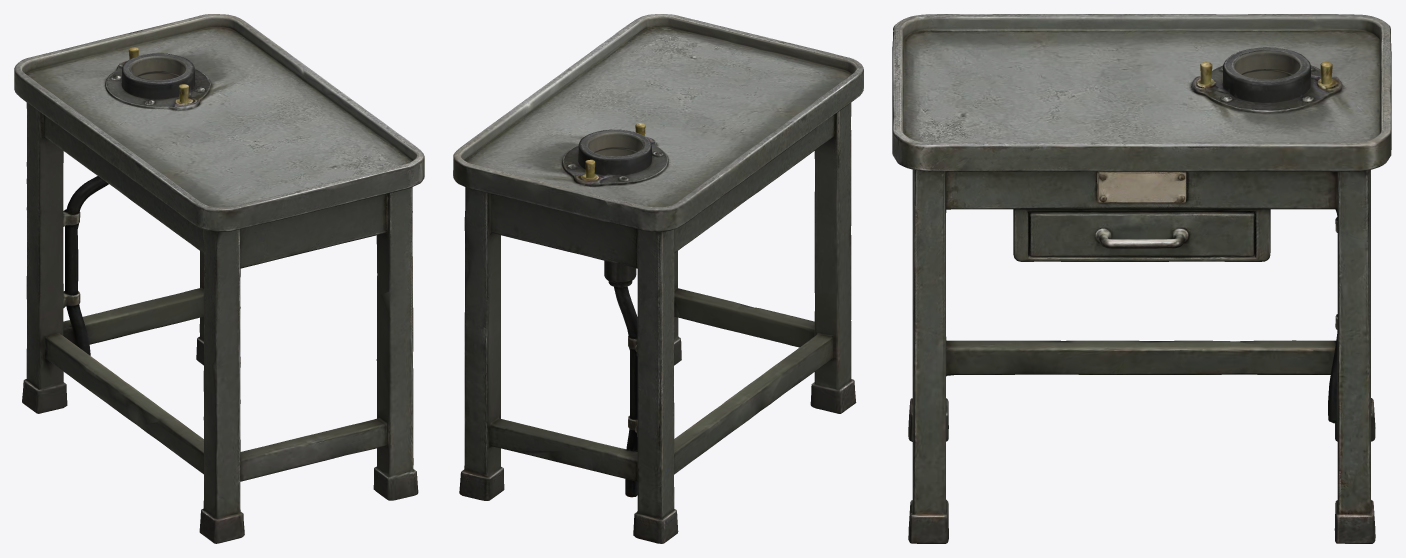
File: dock.glb
3 renders of one model, left to right at view 1: azimuth 30°, elevation 25°; view 2: azimuth 150°, elevation 25°; view 3: azimuth 270°, elevation 25°, orthographic. The views are drawn at different scales.
Visible parts, largest first — view 1: tripo_node_b88b1210-ff36-4e36-be5a-9289d531793a; view 2: tripo_node_b88b1210-ff36-4e36-be5a-9289d531793a; view 3: tripo_node_b88b1210-ff36-4e36-be5a-9289d531793a.
Boxes of the visible parts, <box> form: tripo_node_b88b1210-ff36-4e36-be5a-9289d531793a: <box>14,14,424,543</box>; tripo_node_b88b1210-ff36-4e36-be5a-9289d531793a: <box>453,14,863,543</box>; tripo_node_b88b1210-ff36-4e36-be5a-9289d531793a: <box>892,14,1391,543</box>.
Size of the model in its own units: 0.6147 by 0.8989 by 0.9792.
Materials: 1 (1 with a texture image).
